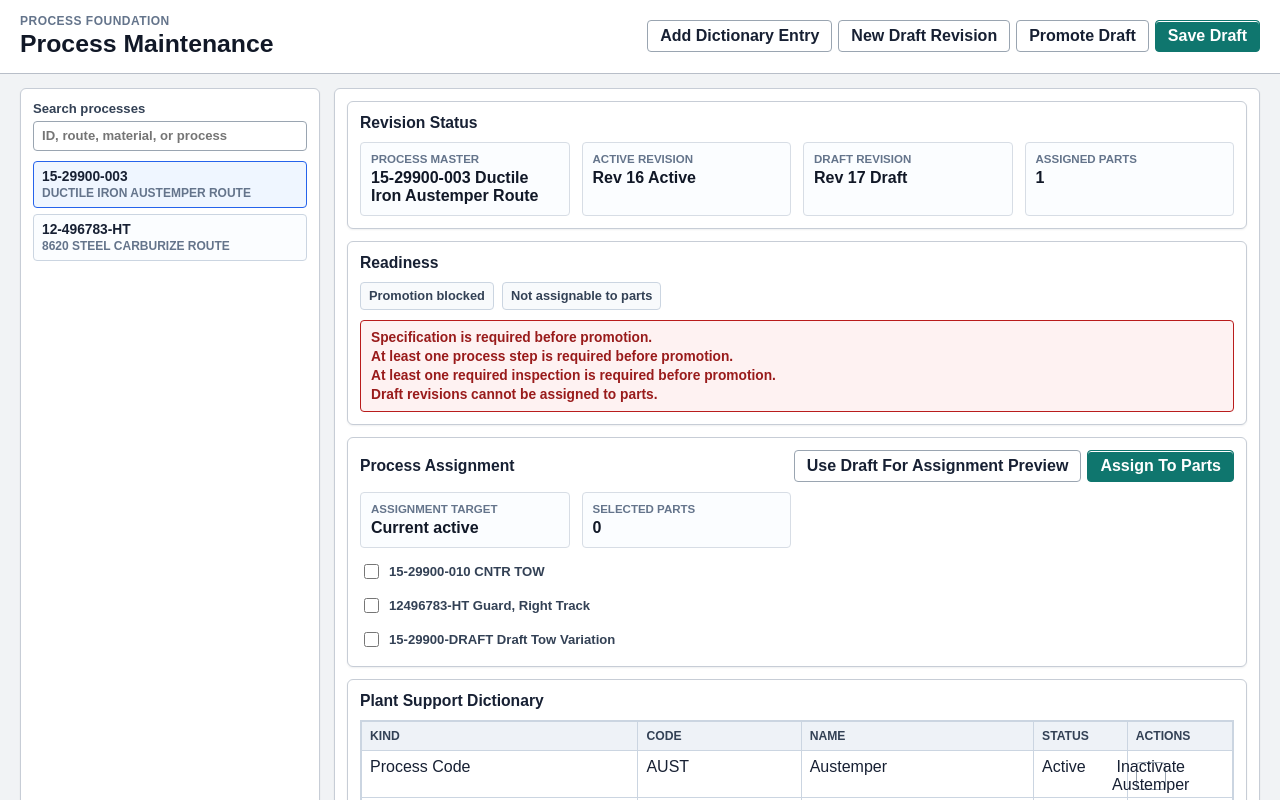
it: ProcessMaintenanceModule › saves an incomplete draft and keeps promotion blockers visible
Click the button "15-29900-003 Ductile Iron Austemper Route" at (170, 184), box [33, 160, 307, 208]
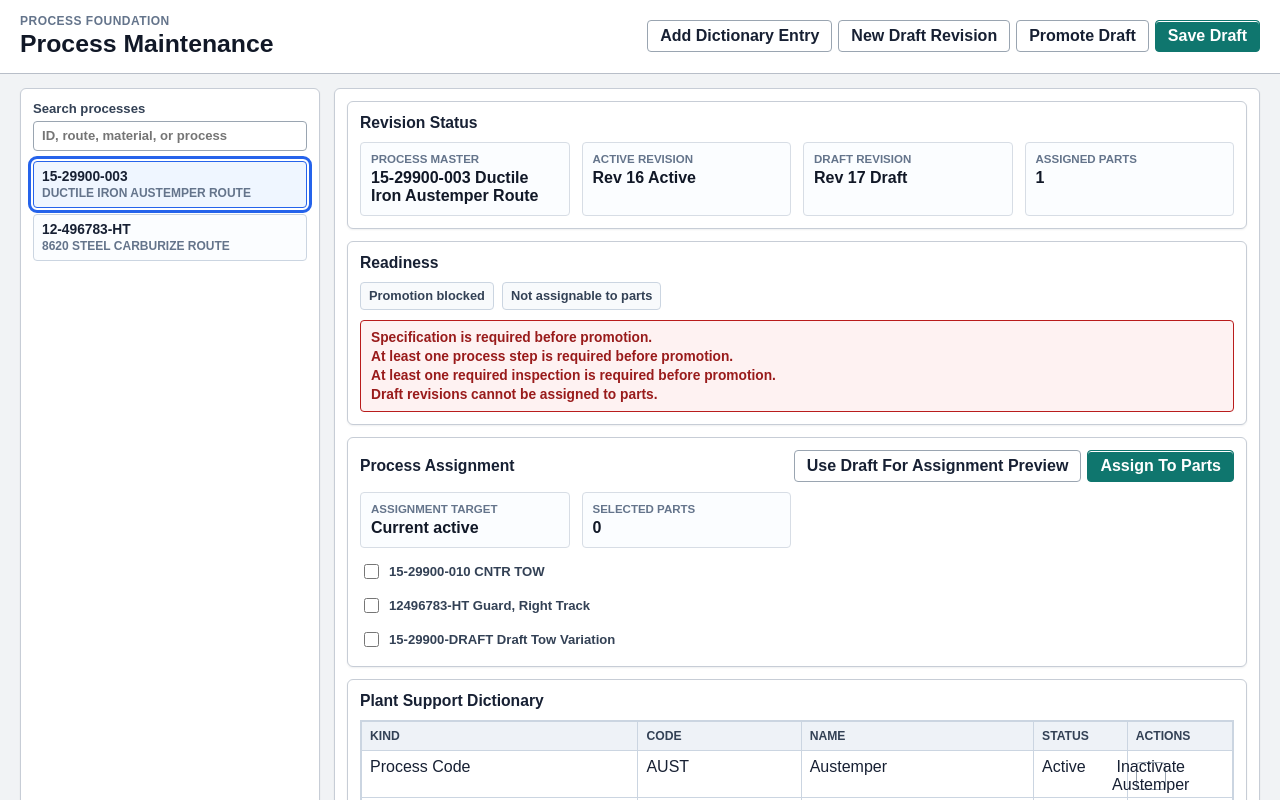
Click the button "Save Draft" at (1207, 36), box [1155, 20, 1260, 52]
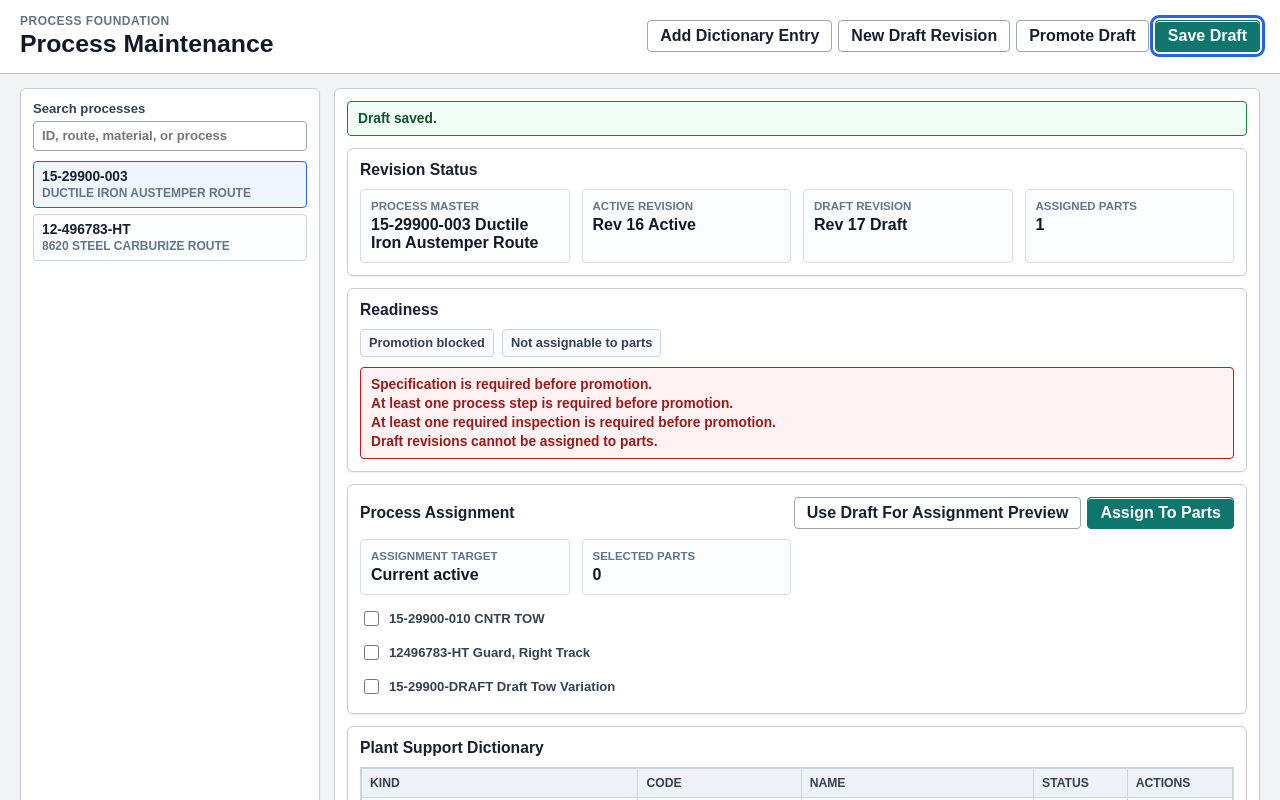
Expected: the text "Specification is required before promotion." is shown, [371, 376, 652, 392]
Result: the message "Draft saved." is shown at [347, 100, 1247, 136]
